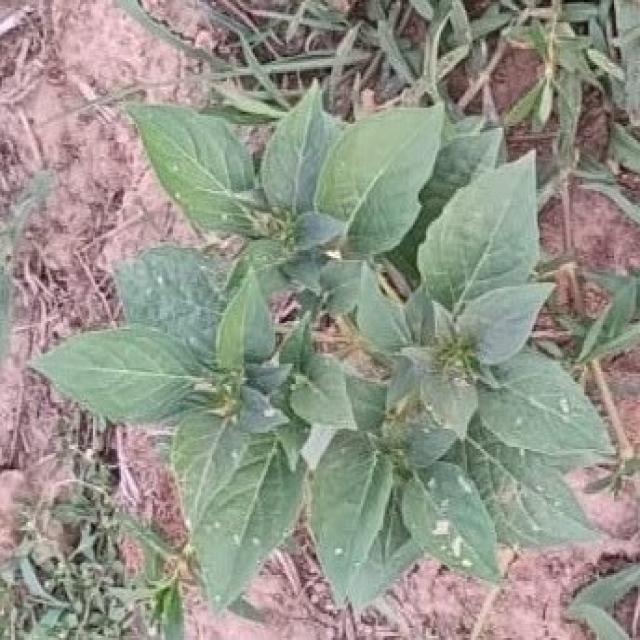weed: (35, 85, 614, 610), (37, 89, 611, 609)
